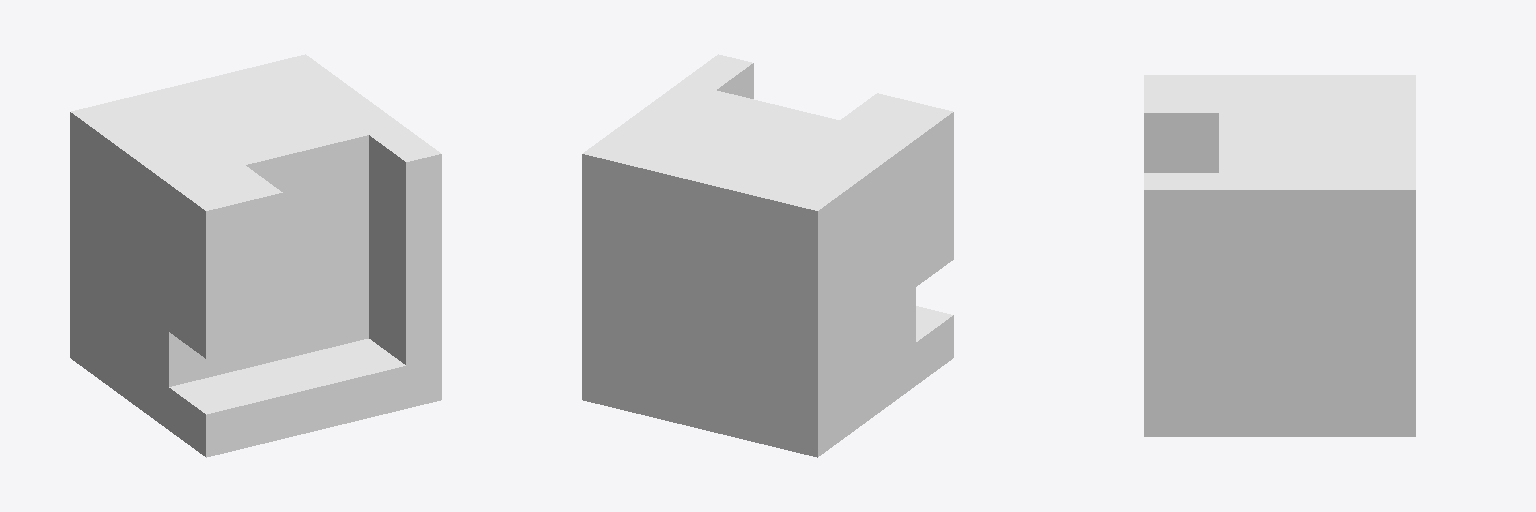
The model's file is up_Piece_V3.obj.
The picture shows the model from 3 angles: view 1: azimuth 30°, elevation 25°; view 2: azimuth 150°, elevation 25°; view 3: azimuth 270°, elevation 25°; orthographic projection.
Visible parts, largest first — view 1: up_Piece_V3; view 2: up_Piece_V3; view 3: up_Piece_V3.
Boxes of the visible parts, x1=… form: up_Piece_V3: x1=70, y1=54, x2=441, y2=457; up_Piece_V3: x1=582, y1=54, x2=953, y2=457; up_Piece_V3: x1=1144, y1=75, x2=1415, y2=436.
Size of the model in its own units: 40 by 40 by 40.